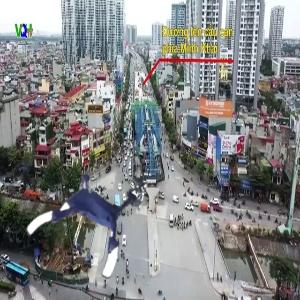drone: (31, 166, 137, 272)
